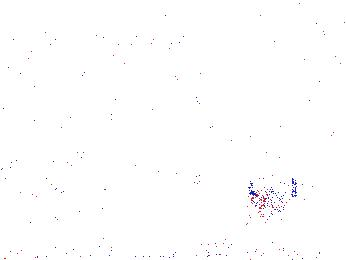flame jellyfish: (60, 165, 132, 219), (249, 162, 294, 211)
